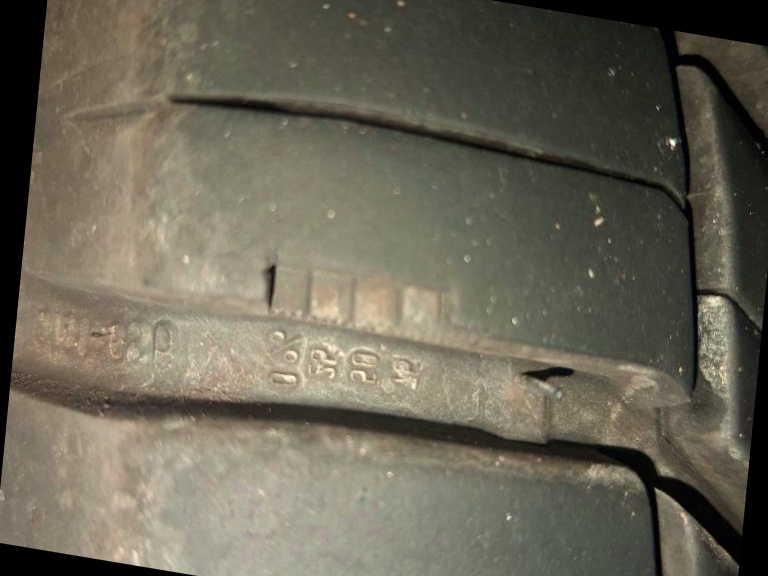temoin:90: (246, 243, 504, 372)
